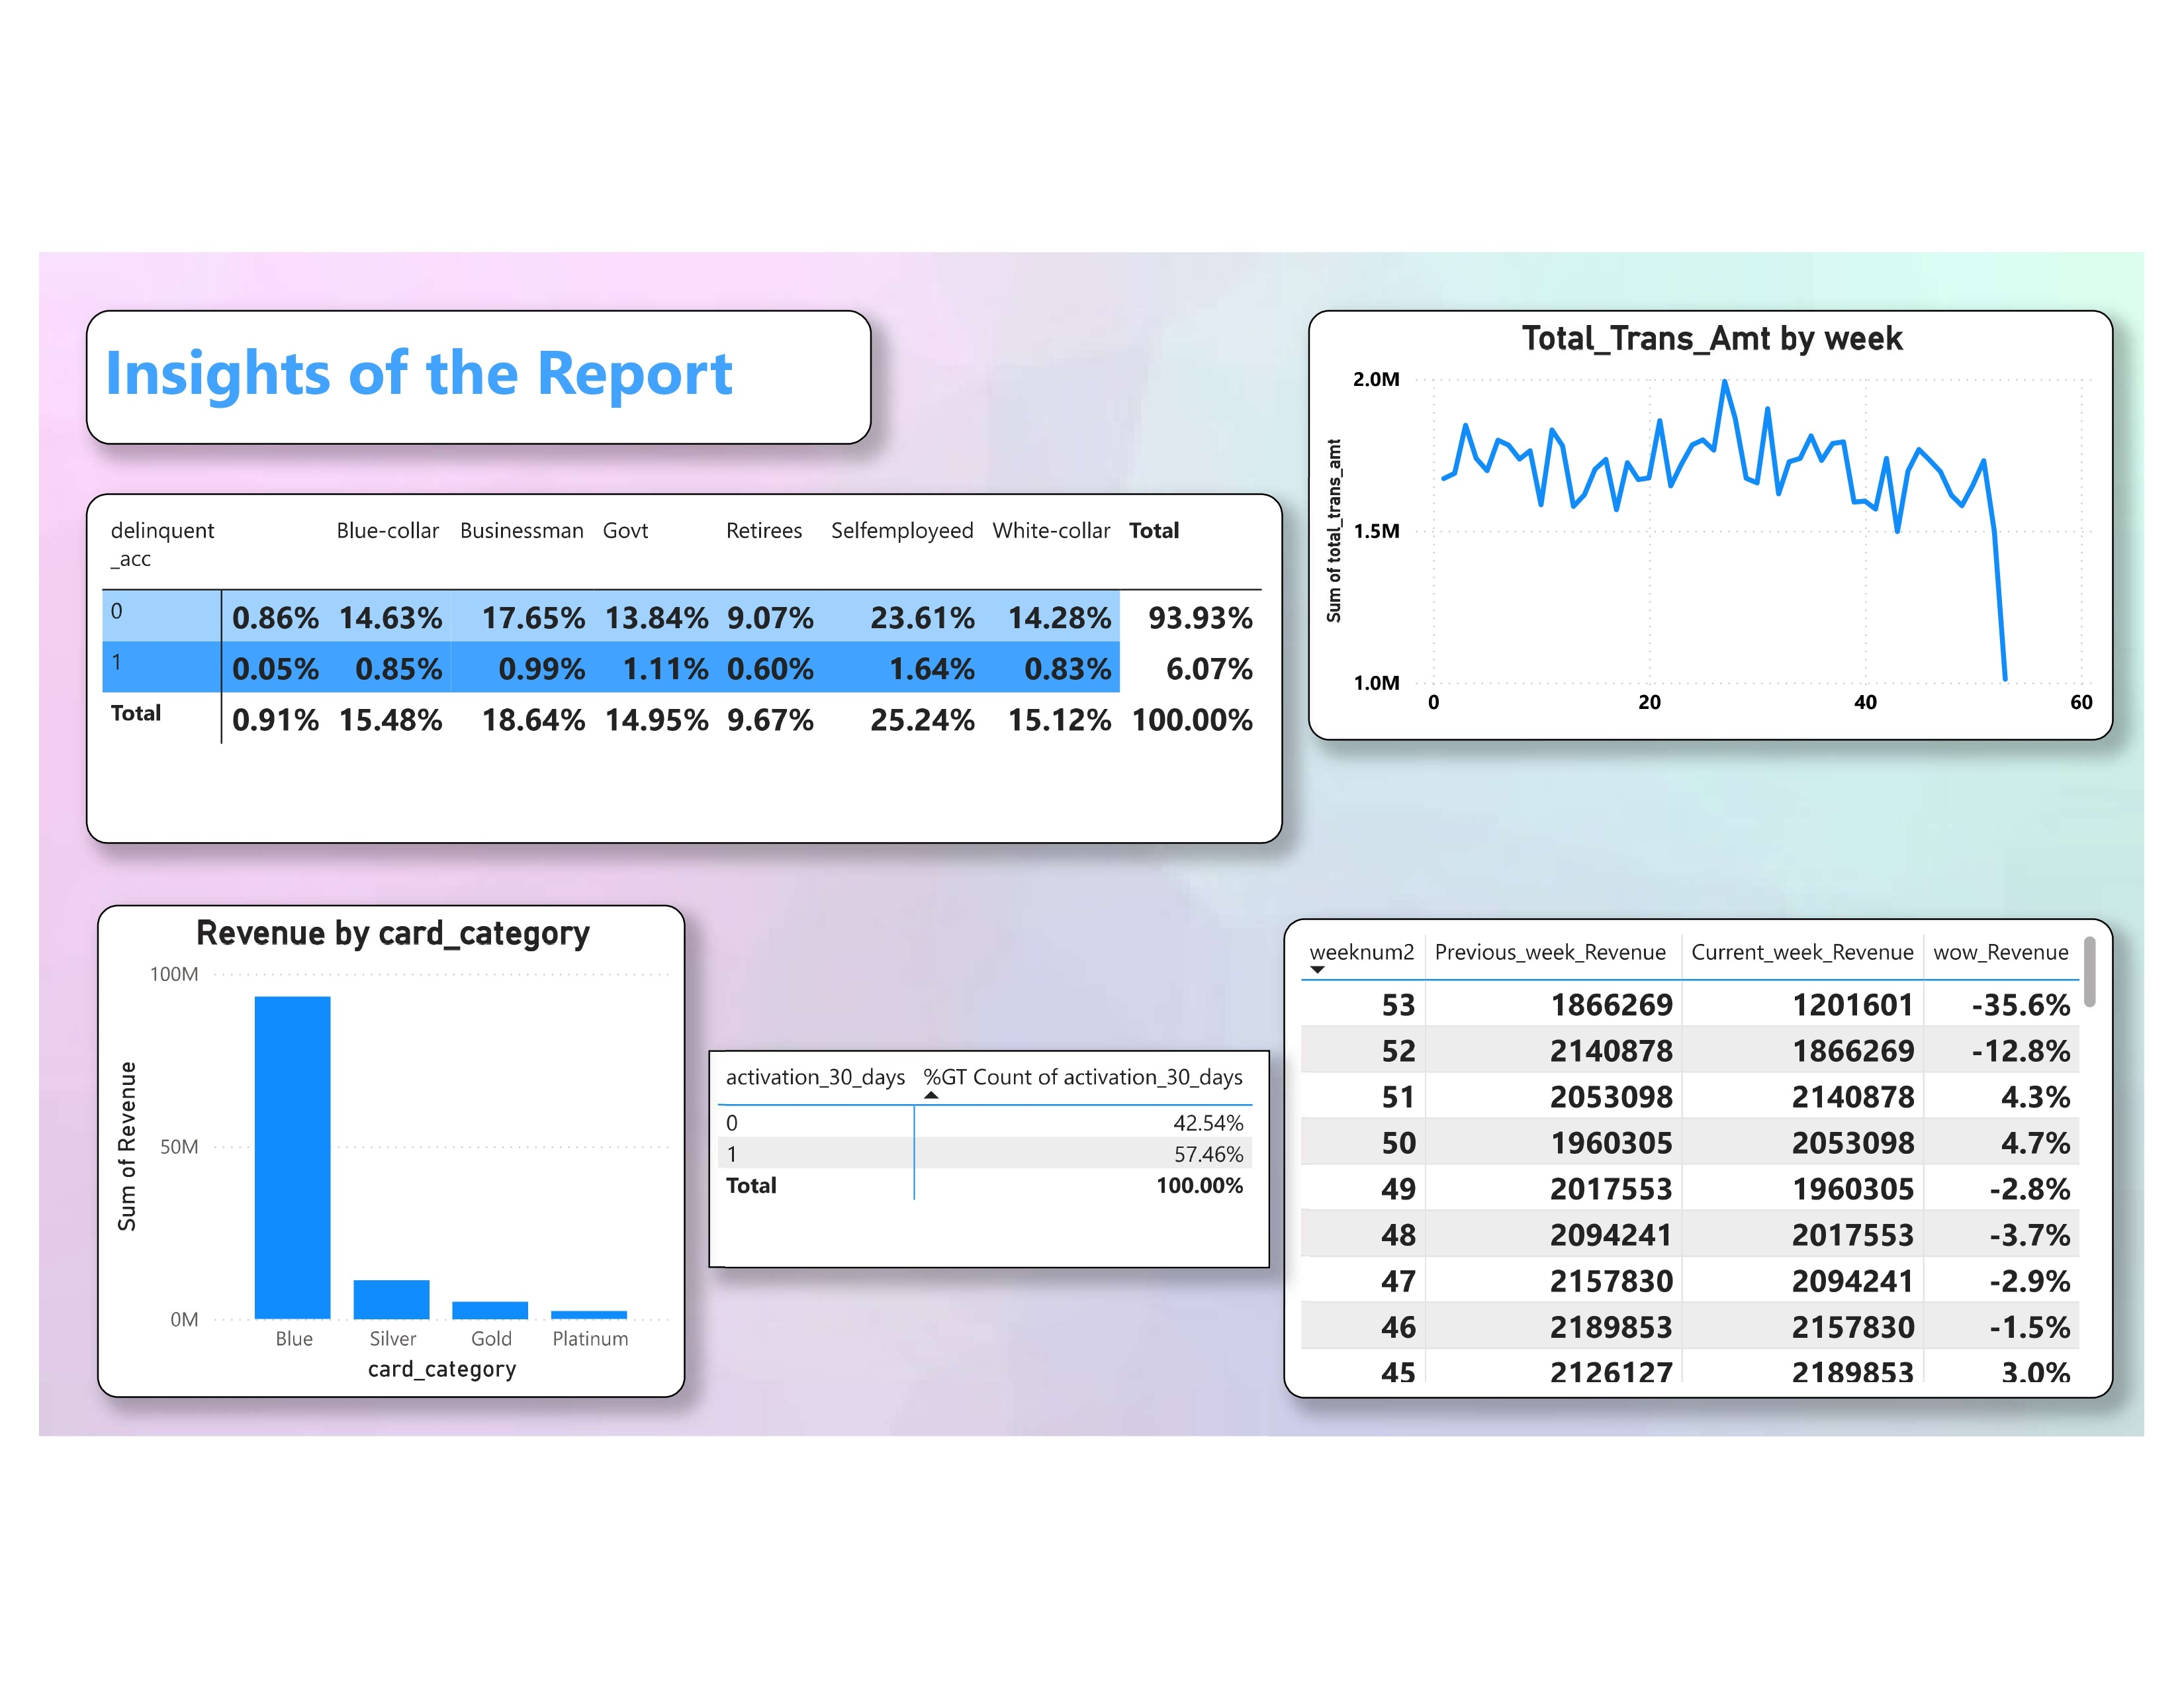

The dashboard page shown, as its layout file describes it:
{"tool":"powerbi","page":{"name":"Insights","canvas":[1280,720],"ordinal":2},"visuals":[{"type":"tableEx","fields":{"Values":["public cc_detail.weeknum2","public cc_detail.Previous_week_Revenue","public cc_detail.Current_week_Revenue","public cc_detail.wow_Revenue"]},"box":[756.7,405,505,291.7],"z":0},{"type":"lineChart","title":" Total_Trans_Amt by week","fields":{"Category":["public cc_detail.weeknum2","public cc_detail.week_start_date.Variation.Date Hierarchy.Month","public cc_detail.week_start_date.Variation.Date Hierarchy.Day"],"Y":["Sum(public cc_detail.total_trans_amt)"]},"box":[771.7,35,490,261.7],"z":1},{"type":"pivotTable","fields":{"Rows":["public cc_detail.delinquent_acc"],"Values":["Min(public cc_detail.delinquent_acc)"],"Columns":["public cust_detail.customer_job"]},"box":[28.3,146.7,728.3,213.3],"z":2},{"type":"pivotTable","fields":{"Values":["Sum(public cc_detail.activation_30_days)"],"Rows":["public cc_detail.activation_30_days"]},"box":[406.7,485,341.7,133.3],"z":3},{"type":"columnChart","title":" Revenue by card_category","fields":{"Y":["Sum(public cc_detail.Revenue)"],"Category":["public cc_detail.card_category"]},"box":[35,396.7,358.3,300],"z":4},{"type":"textbox","box":[28.3,35,478.3,81.7],"z":5}]}

Visuals, with their boxes in screenshot pixels (x1, y1, x2, y2):
tableEx - public cc_detail.weeknum2 x public cc_detail.Previous_week_Revenue: (1279,908,2099,1382)
" Total_Trans_Amt by week" lineChart: (1304,307,2099,732)
pivotTable - public cc_detail.delinquent_acc x Min(public cc_detail.delinquent_acc): (97,489,1279,835)
pivotTable - Sum(public cc_detail.activation_30_days) x public cc_detail.activation_30_days: (711,1038,1266,1254)
" Revenue by card_category" columnChart: (108,894,690,1382)
textbox: (97,307,874,440)
